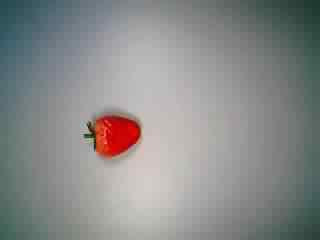strawberry: (76, 98, 142, 164)
